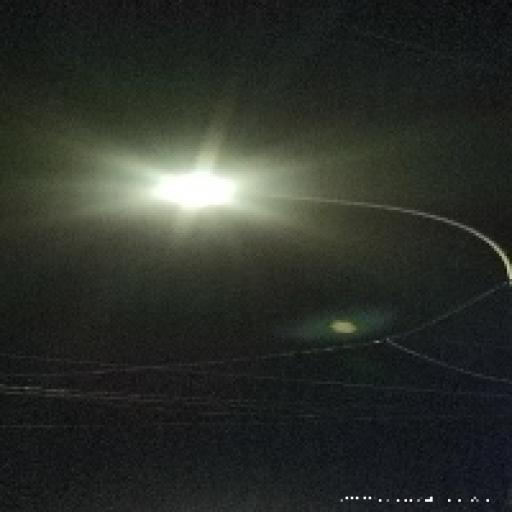Working: (137, 158, 256, 226)
